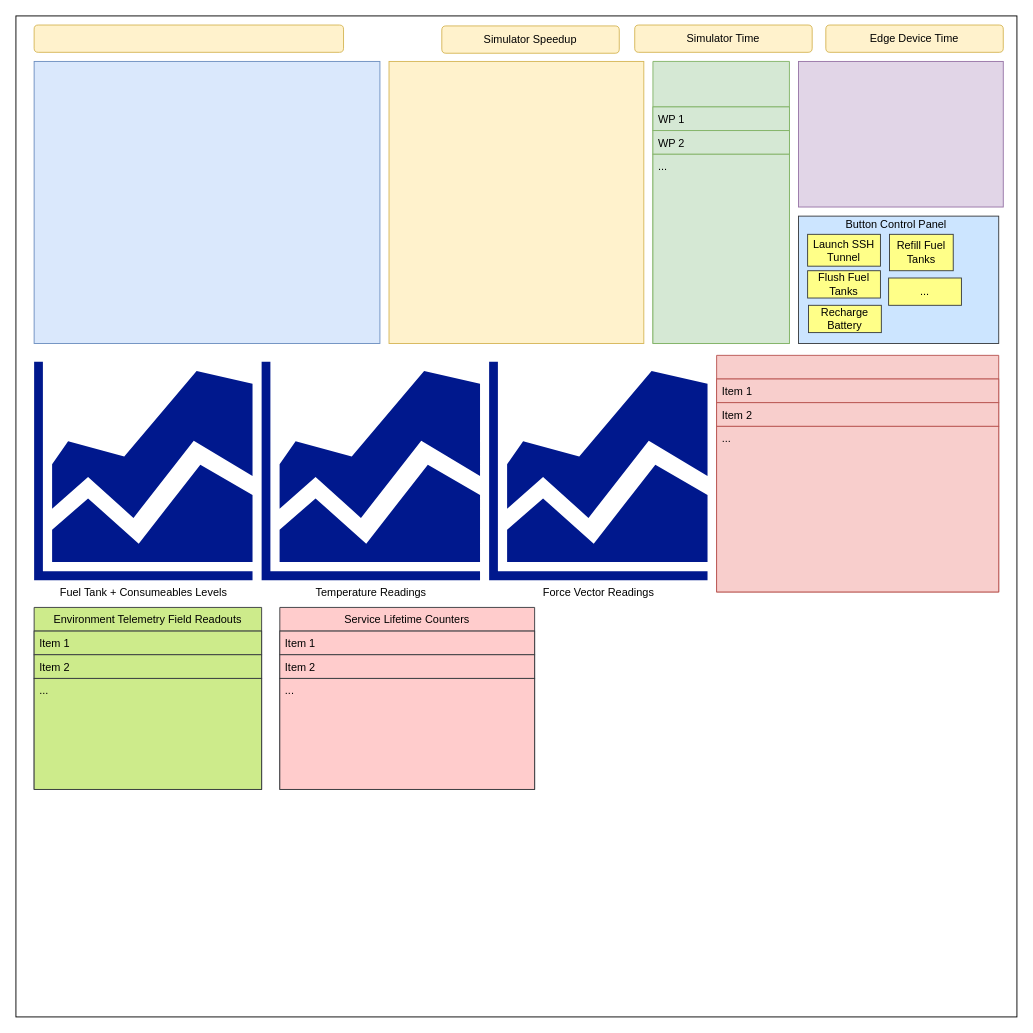
This 1033x1033 diagram has some shape labels left out. The box of each missing label's shape, as (x1, y1, x2, y2) in pixels:
Engine(s) Telemetry Field Readouts: (716, 354, 999, 592)
Flight Plan Control Panel Add waypoints Delete existing waypoints: (798, 61, 1003, 207)
FlightPlan Waypoint List getFlightPlan Service: (652, 61, 789, 344)
Google/OSM Maps Flight Path ValueStream View Network availability overlay: (388, 61, 644, 344)
ImageProperty ValueStream Camera Feed: (33, 61, 380, 344)
TWX Edge Sim - [Plane Name] - Single Plane Mashup: (33, 24, 344, 52)
